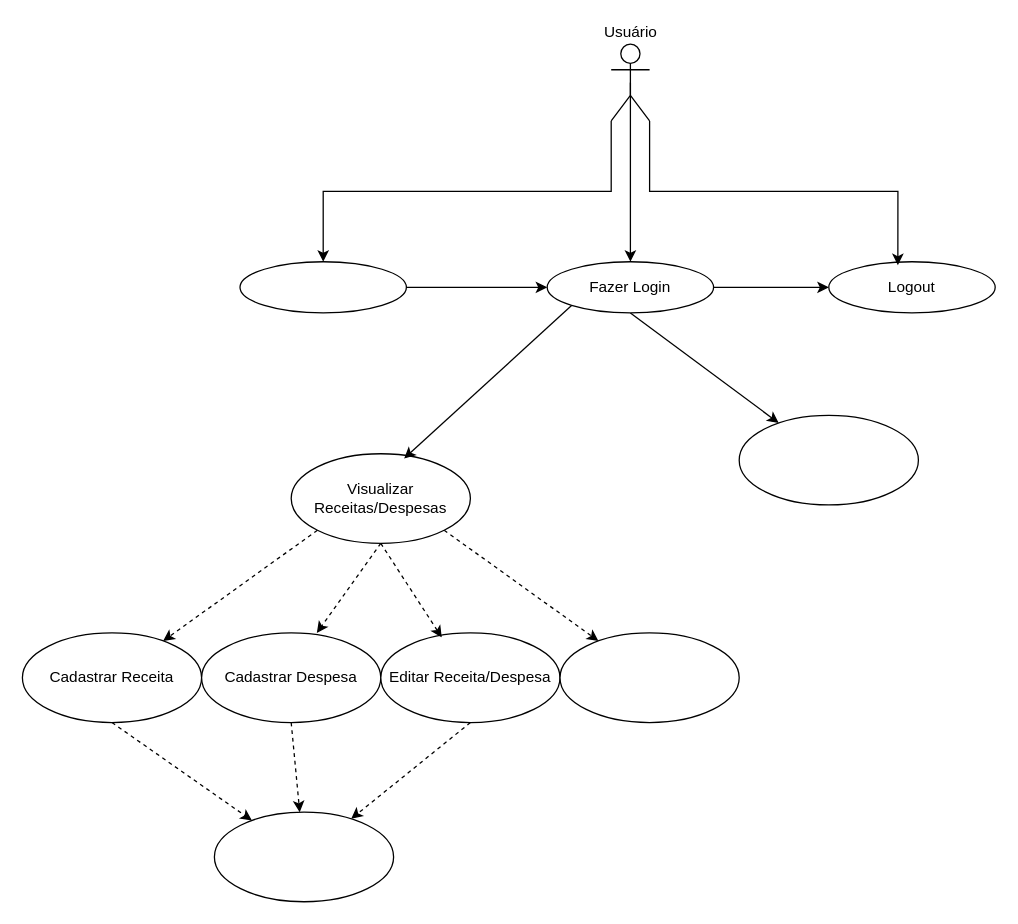
Some shapes in this 1018 by 924 pixel diagram are drawn without their labels. The centre of each missing label's shape, as x and y in pixels:
"Categorizar" belongs at point 303,856.
"Criar Conta" belongs at point 322,286.
"Editar Perfil" belongs at point 828,459.
"Excluir Receita/Despesa" belongs at point 649,677.
